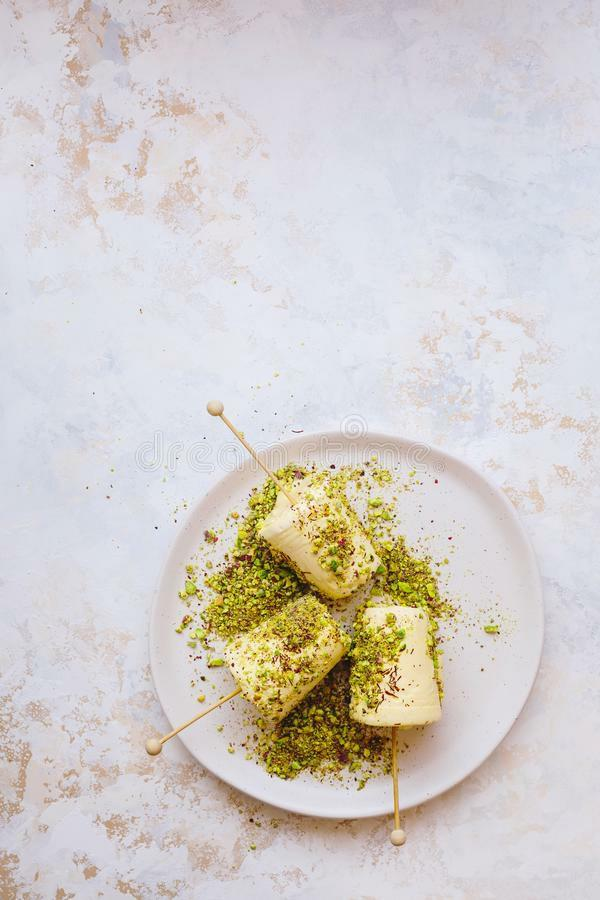Kulfi: (257, 472, 389, 607), (217, 600, 351, 715), (343, 600, 449, 730)
